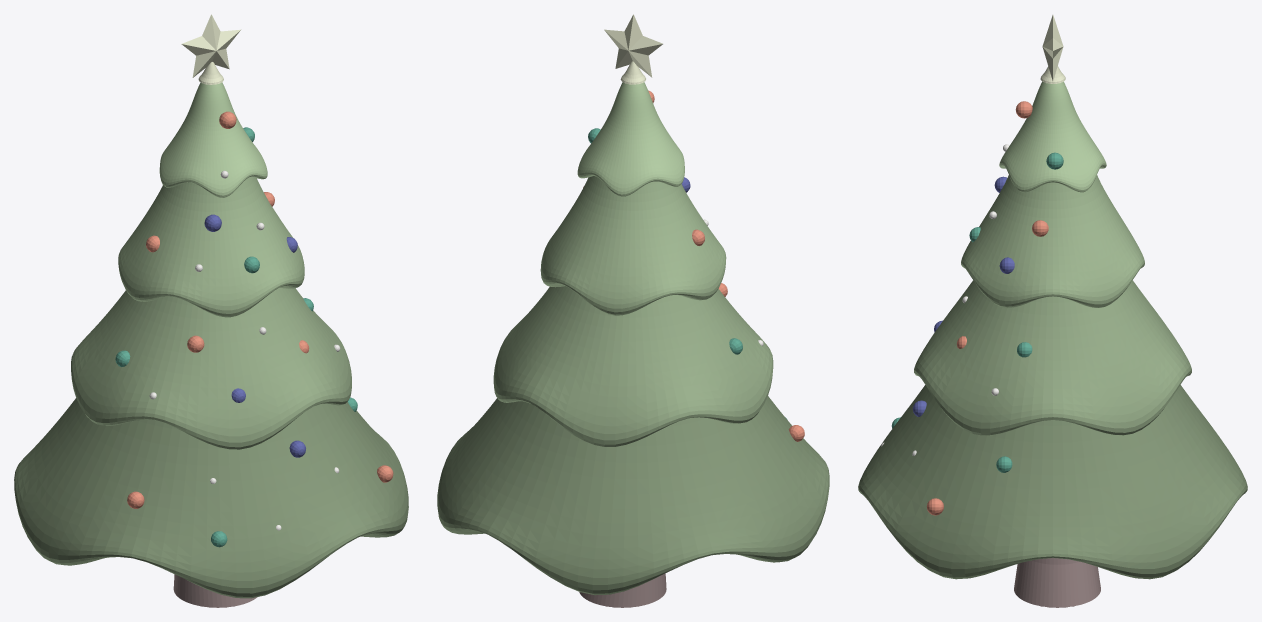
File: tree_decorated_2.glb
The picture shows the model from 3 angles, left to right: view 1: azimuth 30°, elevation 25°; view 2: azimuth 150°, elevation 25°; view 3: azimuth 270°, elevation 25°; orthographic projection.
Parts seen in each view (by area): view 1: Null.1, Extrude, Cylinder.1; view 2: Null.1, Extrude, Cylinder.1; view 3: Null.1, Cylinder.1, Extrude.
Part boxes in pixels (x1,y1,x2,y2): Null.1: (14,82,408,598); Extrude: (181,14,240,77); Cylinder.1: (173,574,257,607); Null.1: (437,82,829,595); Extrude: (604,14,662,77); Cylinder.1: (579,573,666,607); Null.1: (858,81,1247,579); Cylinder.1: (1014,558,1100,607); Extrude: (1042,15,1063,80).
Bounding box in the file's own units: 5.41 × 8.79 × 5.42.
